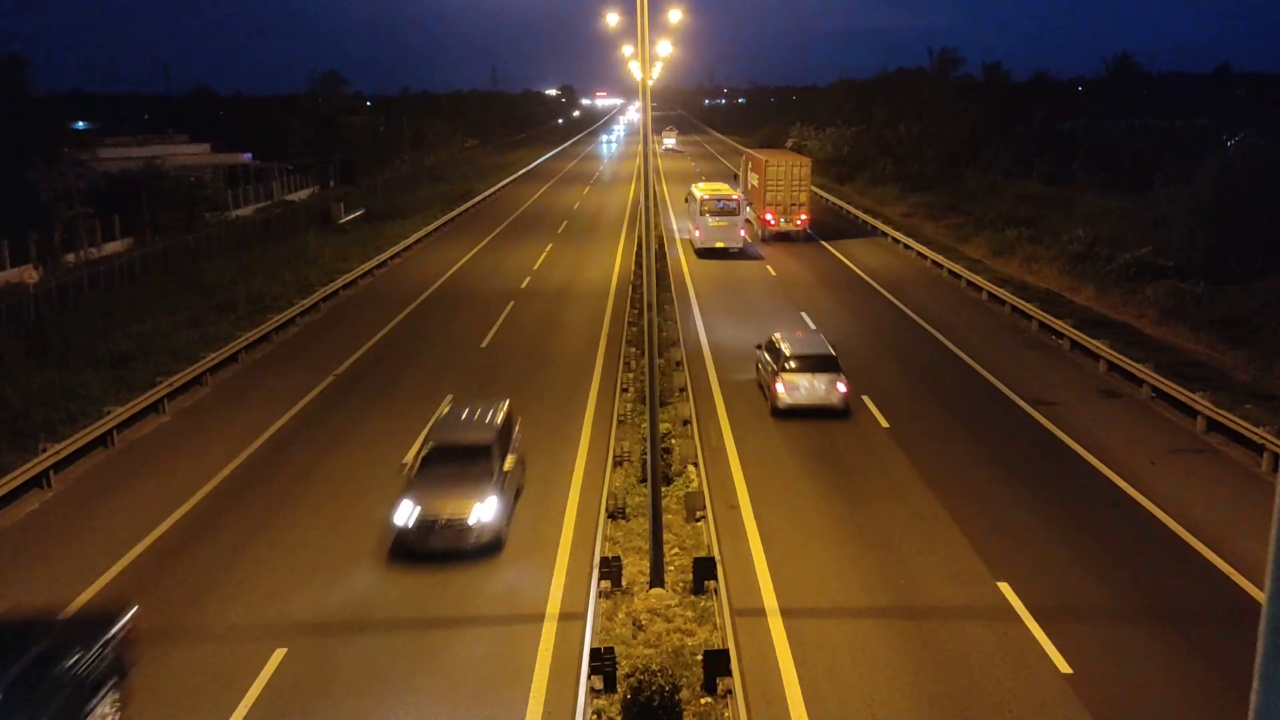bus: (683, 176, 752, 264)
car: (388, 393, 527, 560), (753, 328, 851, 418)
truck: (739, 145, 813, 243)
